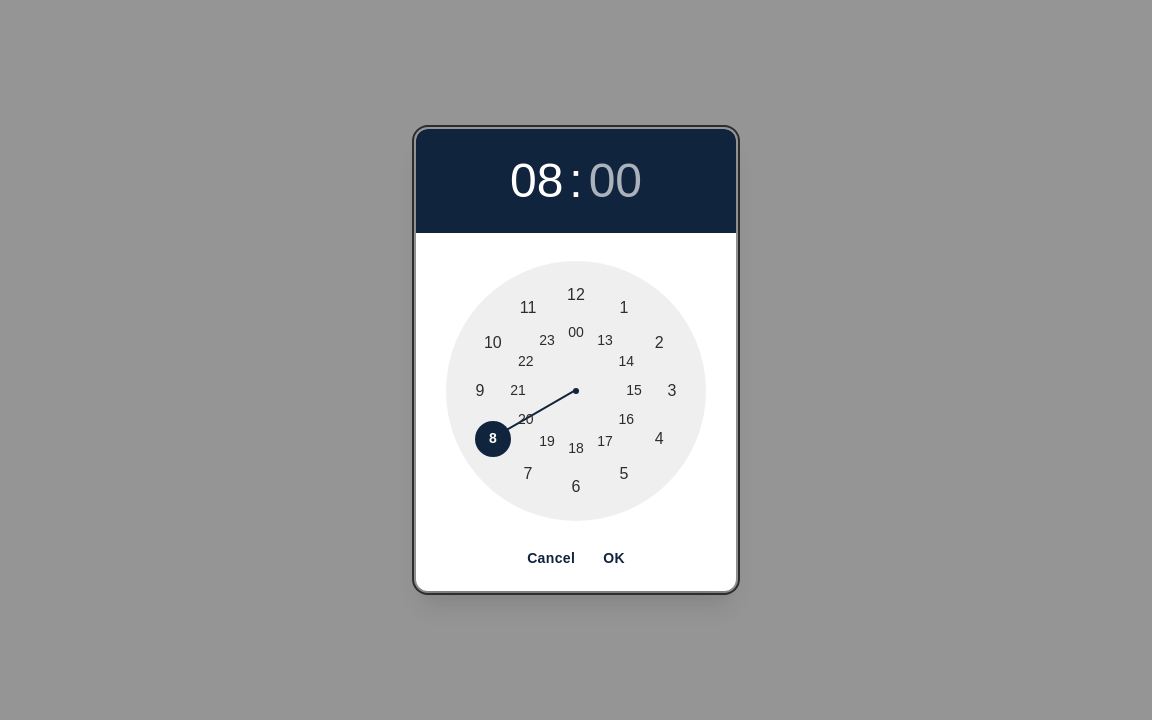
Test: TimePickerModal › jumps to the minute dial by clicking the header minute segment
Click the 1st button "00".
click(615, 181)  # box [589, 157, 642, 205]
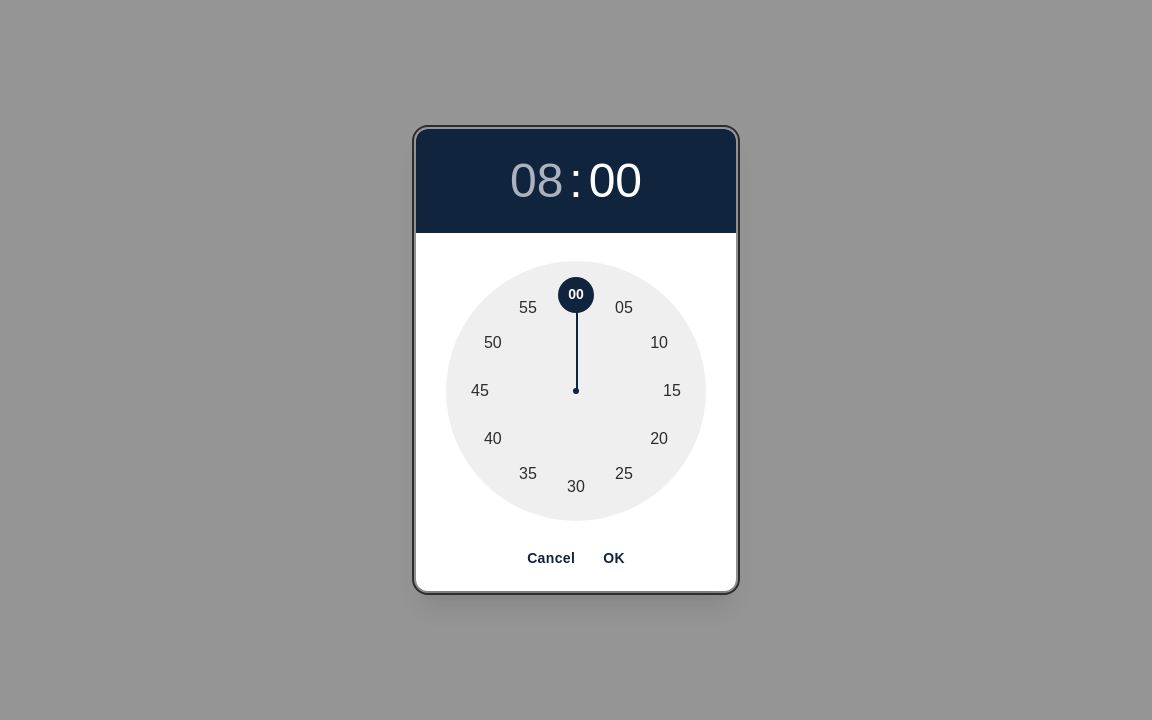
expect the button named "0 minutes" is shown: met, box [562, 281, 590, 309]
